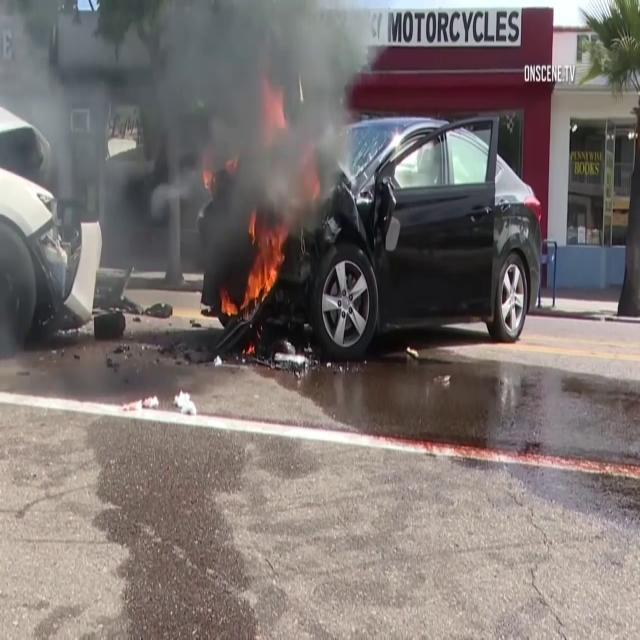Fire: (224, 218, 286, 320)
Smoke: (0, 0, 367, 229)
